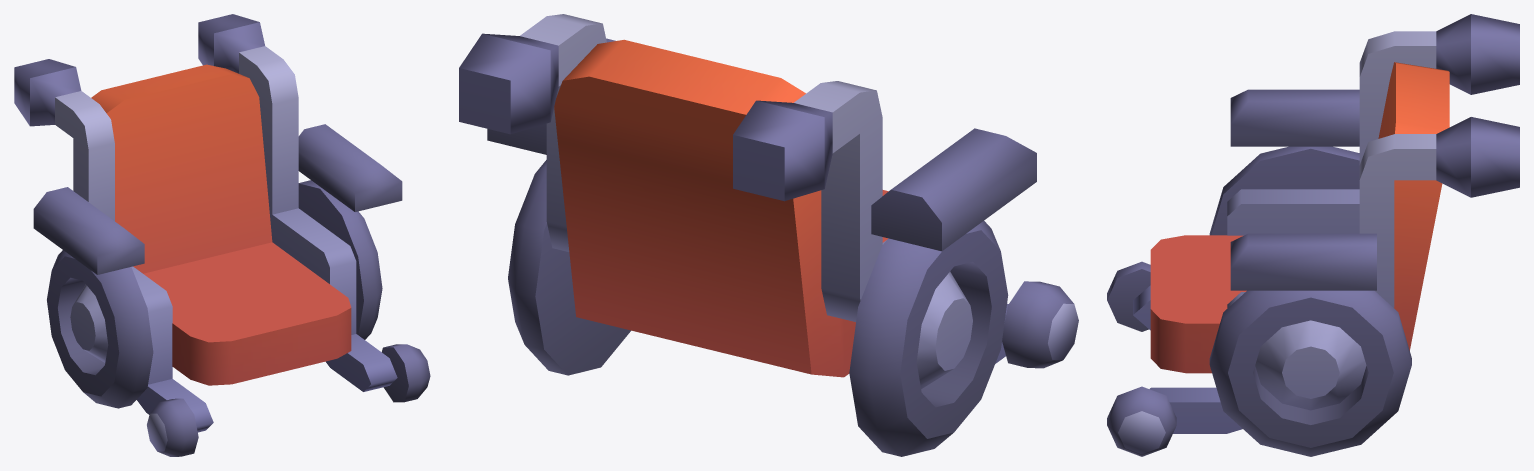
The model's file is wheelchair-deluxe.obj.
3 views of the same model, side by side, from view 1: azimuth 30°, elevation 25°; view 2: azimuth 150°, elevation 25°; view 3: azimuth 270°, elevation 25° (orthographic). The views are drawn at different scales.
Visible parts, largest first — view 1: wheelchair-deluxe; view 2: wheelchair-deluxe; view 3: wheelchair-deluxe.
Boxes of the visible parts, x1,y1,x2,y2 form: wheelchair-deluxe: (14,14,430,456); wheelchair-deluxe: (459,14,1078,456); wheelchair-deluxe: (1107,14,1519,456).
Bounding box in the file's own units: 0.5791 × 0.495 × 0.5924.
1 material, 1 textured.
